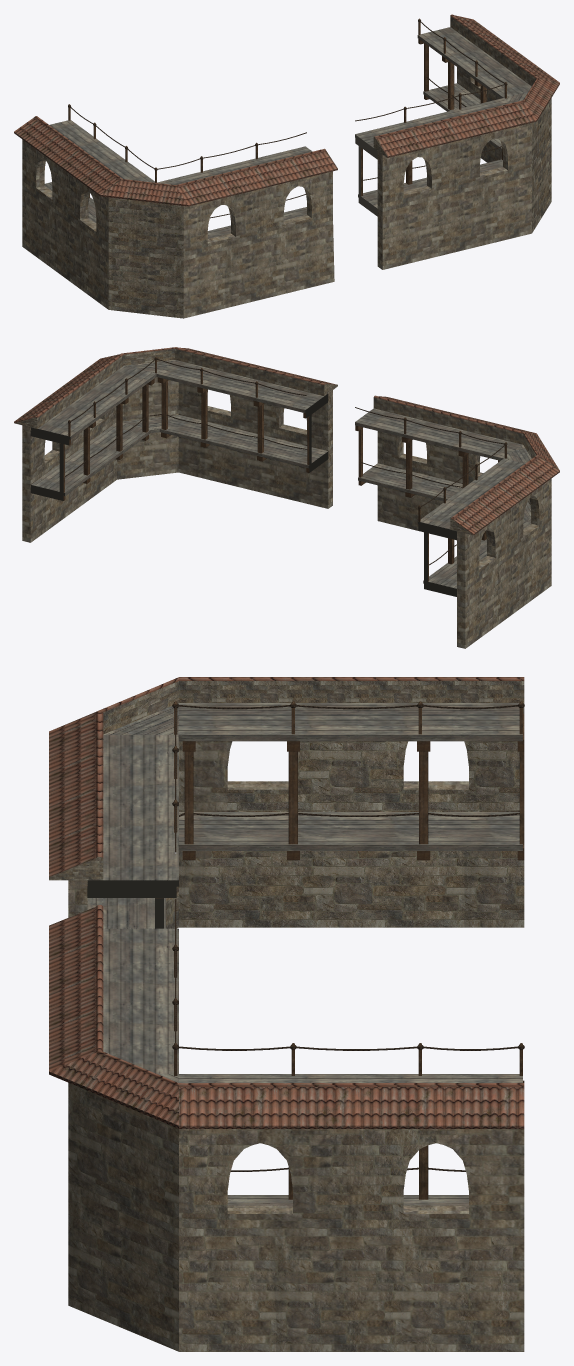
File: FortWallCornerL1.dae
3 views of the same model, one above another, from view 1: azimuth 30°, elevation 25°; view 2: azimuth 150°, elevation 25°; view 3: azimuth 270°, elevation 25° (orthographic). The views are drawn at different scales.
Parts seen in each view (by area): view 1: forts_stone_copy34-0, forts_stone_copy186-0; view 2: forts_stone_copy186-0, forts_stone_copy34-0; view 3: forts_stone_copy186-0, forts_stone_copy34-0.
Part boxes in pixels (<box>): forts_stone_copy34-0: <box>14,104,337,318</box>; forts_stone_copy186-0: <box>355,14,559,269</box>; forts_stone_copy186-0: <box>14,347,337,542</box>; forts_stone_copy34-0: <box>355,395,559,648</box>; forts_stone_copy186-0: <box>49,899,524,1351</box>; forts_stone_copy34-0: <box>49,677,524,928</box>.
Size of the model in its own units: 32.59 by 8.92 by 14.61.
